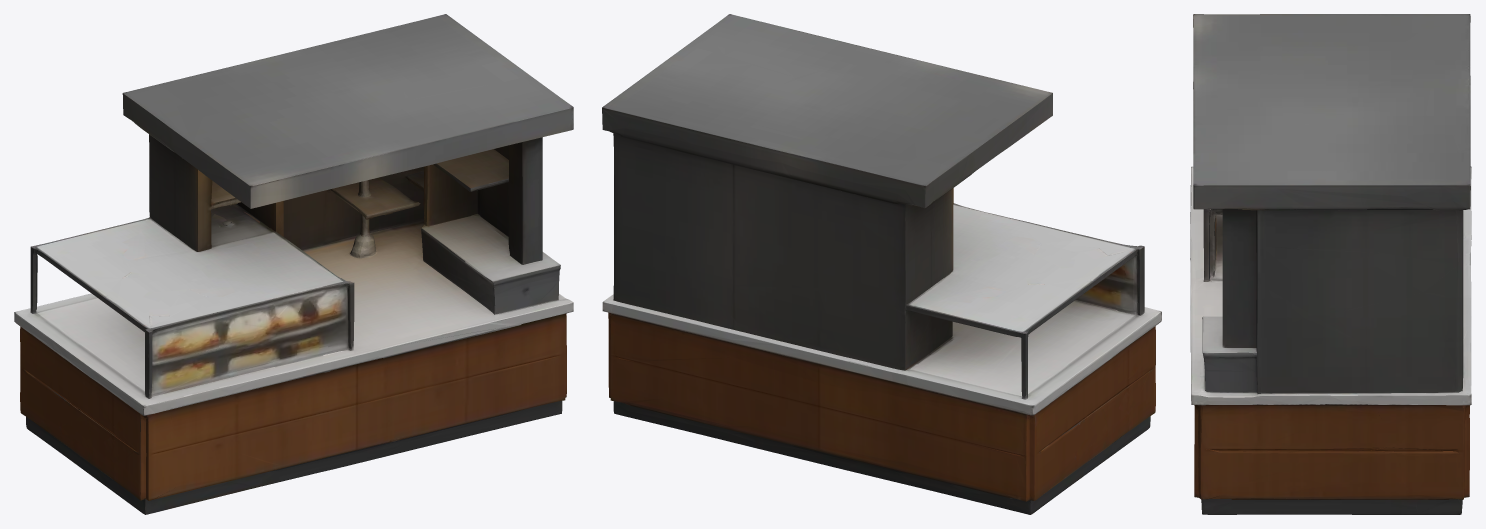
The model's file is kiosk_food_small_dark.glb.
The picture shows the model from 3 angles, left to right: view 1: azimuth 30°, elevation 25°; view 2: azimuth 150°, elevation 25°; view 3: azimuth 270°, elevation 25°; orthographic projection. The views are drawn at different scales.
Visible parts, largest first — view 1: geometry_0; view 2: geometry_0; view 3: geometry_0.
Part boxes in pixels (<box>): geometry_0: <box>14,14,573,514</box>; geometry_0: <box>602,14,1161,514</box>; geometry_0: <box>1190,14,1471,514</box>.
Size of the model in its own units: 0.9998 by 0.6801 by 0.5195.
Materials: 1 (1 with a texture image).
